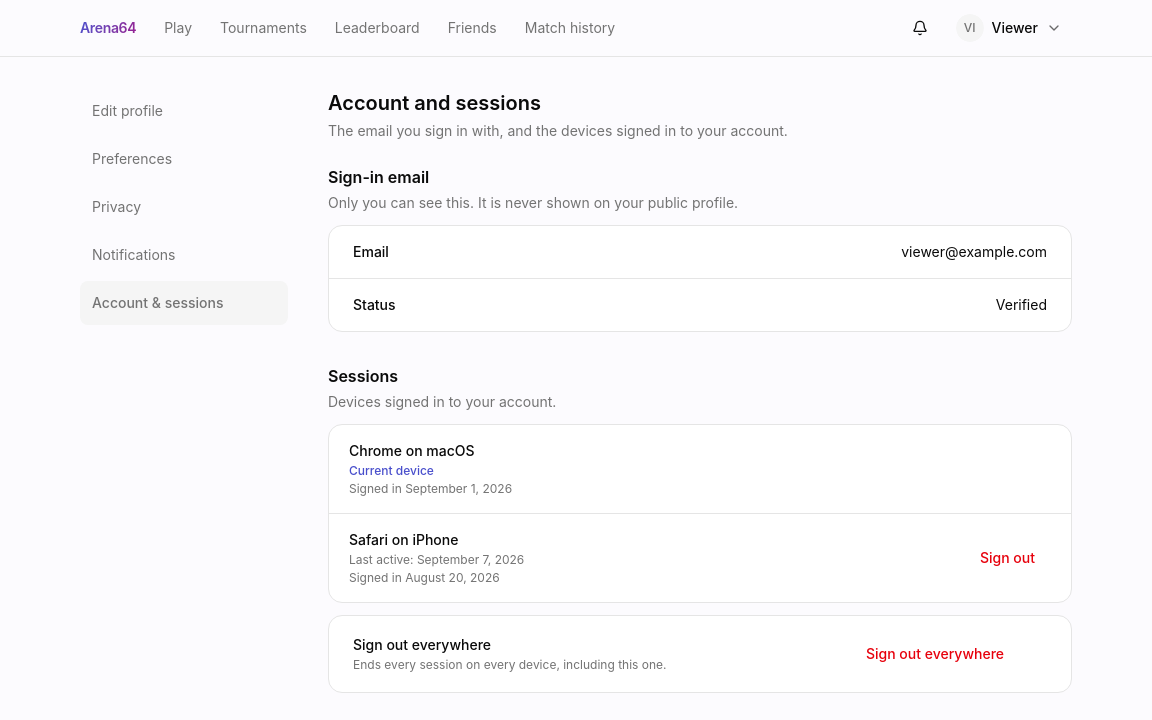
signs out another device and re-reads the list from the server
The width and height of the screenshot is (1152, 720).
expect the list item that starts with "Safari on iPhone" is shown: met, box 329,514 -> 1071,602
Click the button "Sign out". click: x=1008, y=558
box: 964,536 -> 1051,580
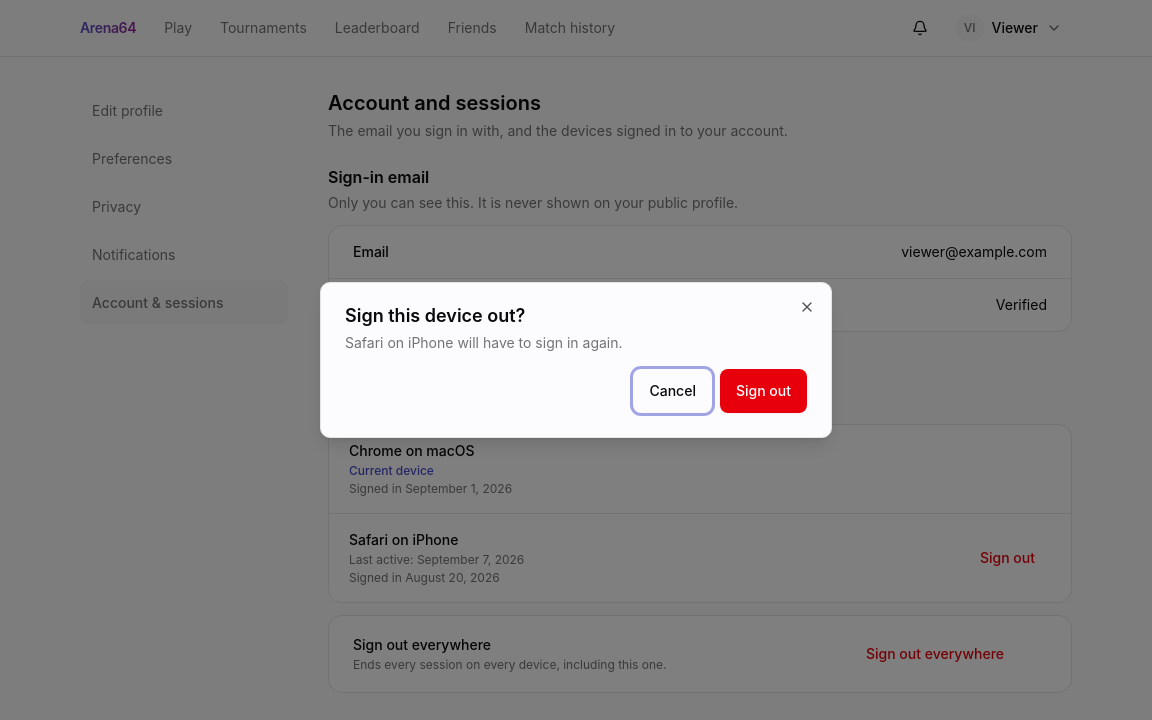
Click the button "Sign out". click: x=764, y=391
box: 720,369 -> 807,413
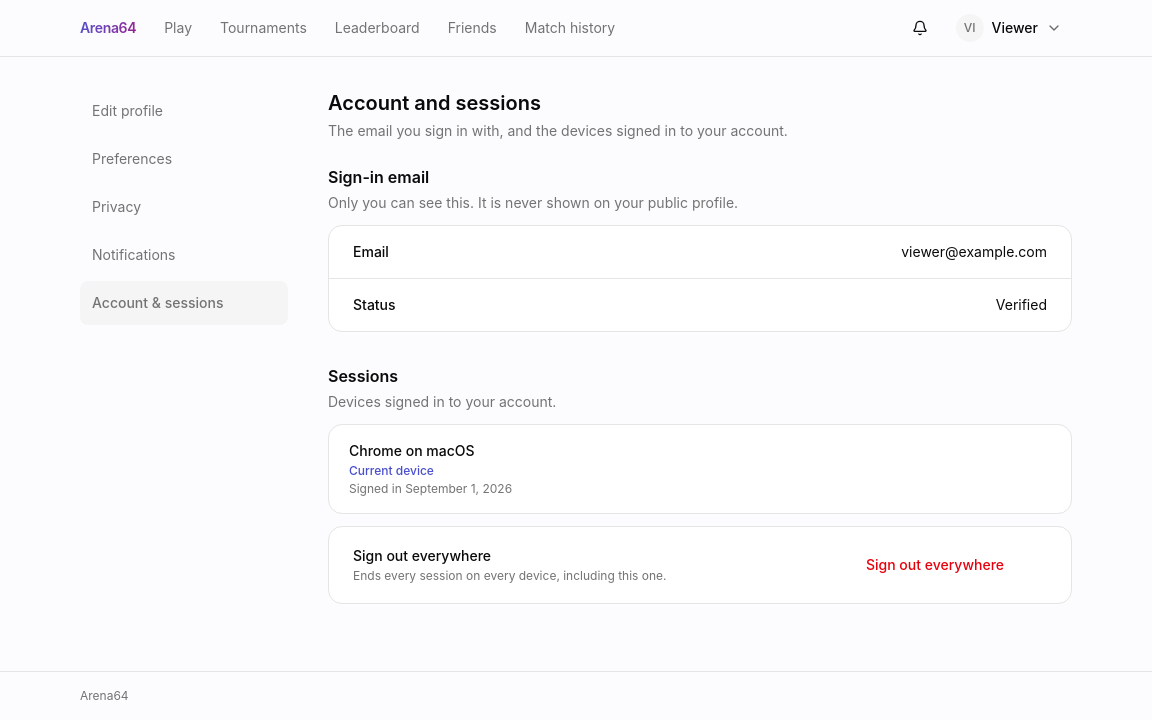
expect the text "Safari on iPhone" is gone: met
